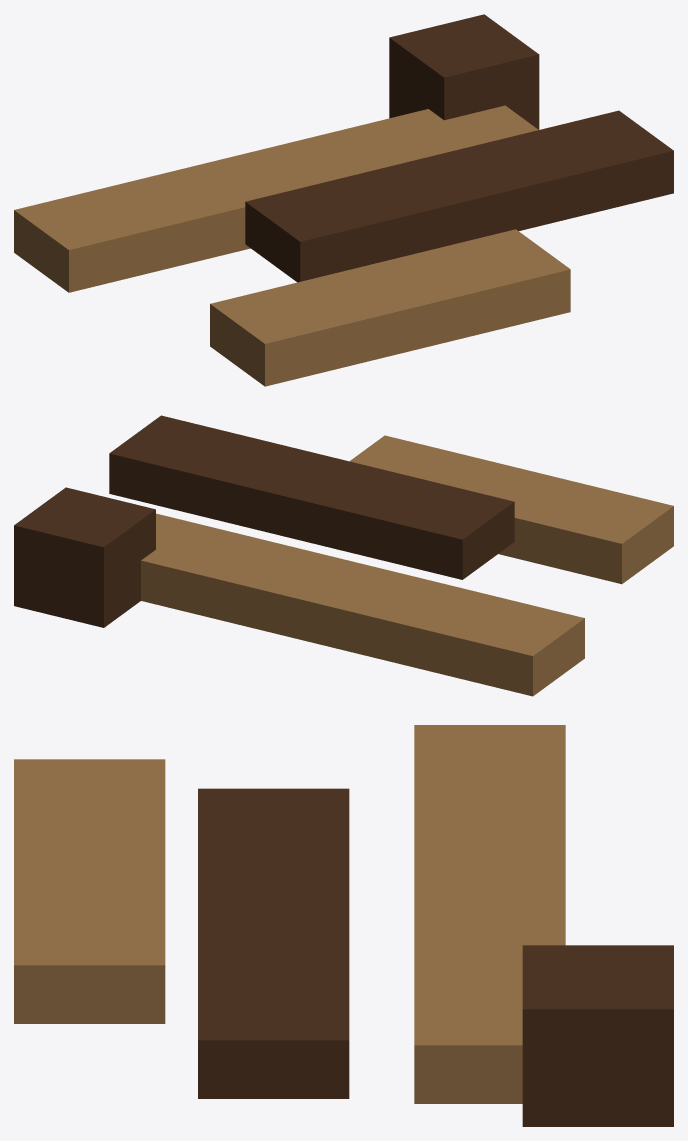
File: rubble.a4106dba.glb
The picture shows the model from 3 angles, top to bottom: view 1: azimuth 30°, elevation 25°; view 2: azimuth 150°, elevation 25°; view 3: azimuth 270°, elevation 25°; orthographic projection. The views are drawn at different scales.
Visible parts, largest first — view 1: body; view 2: body; view 3: body.
Part boxes in pixels (x1,y1,x2,y2): body: (14,14,673,386); body: (14,415,673,696); body: (14,725,673,1126).
Bounding box in the file's own units: 0.775 × 0.12 × 0.61.
